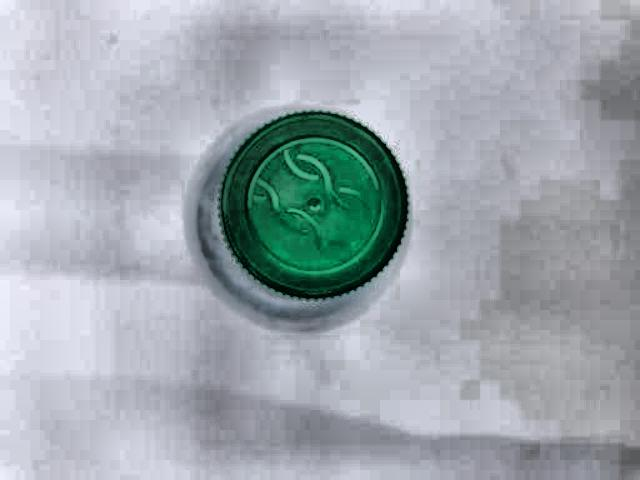Plastic: (209, 108, 402, 307)
